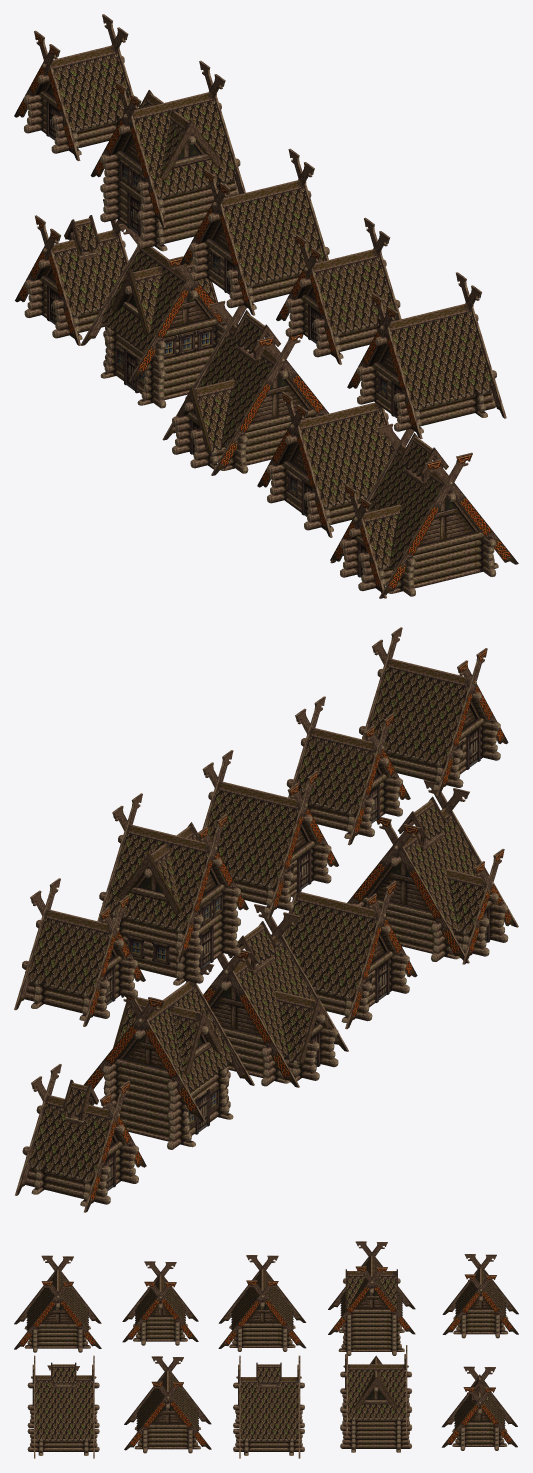
Rendered from MbdMD_T_Forest_S_GeneralShop.FBX.
3 views of the same model, one above another, from view 1: azimuth 30°, elevation 25°; view 2: azimuth 150°, elevation 25°; view 3: azimuth 270°, elevation 25° (orthographic). The views are drawn at different scales.
Parts seen in each view (by area): view 1: MbdMD_T_Forest_M_A_Build_02, MbdMD_T_Forest_M_A_Inn, MbdMD_T_Forest_S_Inn, MbdMD_T_Forest_S_HeadmanHouse, MbdMD_T_Forest_M_A_House_A, MbdMD_T_Forest_M_A_Build_01, MbdMD_T_Forest_S_House_A, MbdMD_T_Forest_S_GeneralShop, MbdMD_T_Forest_M_A_Build_03, MbdMD_T_Forest_M_A_GeneralShop; view 2: MbdMD_T_Forest_M_A_Inn, MbdMD_T_Forest_S_HeadmanHouse, MbdMD_T_Forest_M_A_Build_02, MbdMD_T_Forest_S_Inn, MbdMD_T_Forest_M_A_House_A, MbdMD_T_Forest_M_A_Build_01, MbdMD_T_Forest_S_House_A, MbdMD_T_Forest_M_A_GeneralShop, MbdMD_T_Forest_M_A_Build_03, MbdMD_T_Forest_S_GeneralShop; view 3: MbdMD_T_Forest_S_HeadmanHouse, MbdMD_T_Forest_M_A_Inn, MbdMD_T_Forest_M_A_Build_02, MbdMD_T_Forest_S_Inn, MbdMD_T_Forest_S_House_A, MbdMD_T_Forest_M_A_House_A, MbdMD_T_Forest_M_A_Build_01, MbdMD_T_Forest_M_A_GeneralShop, MbdMD_T_Forest_M_A_Build_03, MbdMD_T_Forest_S_GeneralShop.
Boxes of the visible parts, x1,y1,x2,y2 form: MbdMD_T_Forest_M_A_Build_02: (330,423,518,598); MbdMD_T_Forest_M_A_Inn: (90,60,245,251); MbdMD_T_Forest_S_Inn: (162,300,328,475); MbdMD_T_Forest_S_HeadmanHouse: (80,223,227,408); MbdMD_T_Forest_M_A_House_A: (347,272,506,438); MbdMD_T_Forest_M_A_Build_01: (180,148,329,315); MbdMD_T_Forest_S_House_A: (257,391,395,537); MbdMD_T_Forest_S_GeneralShop: (276,217,401,364); MbdMD_T_Forest_M_A_Build_03: (14,14,137,161); MbdMD_T_Forest_M_A_GeneralShop: (15,198,128,345); MbdMD_T_Forest_M_A_Inn: (97,793,248,985); MbdMD_T_Forest_S_HeadmanHouse: (83,963,254,1149); MbdMD_T_Forest_M_A_Build_02: (347,780,518,964); MbdMD_T_Forest_S_Inn: (203,904,348,1087); MbdMD_T_Forest_M_A_House_A: (359,627,508,795); MbdMD_T_Forest_M_A_Build_01: (202,750,338,918); MbdMD_T_Forest_S_House_A: (282,881,417,1029); MbdMD_T_Forest_M_A_GeneralShop: (15,1064,146,1212); MbdMD_T_Forest_M_A_Build_03: (14,878,145,1026); MbdMD_T_Forest_S_GeneralShop: (286,696,410,845); MbdMD_T_Forest_S_HeadmanHouse: (340,1345,411,1452); MbdMD_T_Forest_M_A_Inn: (328,1241,415,1355); MbdMD_T_Forest_M_A_Build_02: (27,1355,99,1458); MbdMD_T_Forest_S_Inn: (233,1355,304,1458); MbdMD_T_Forest_S_House_A: (124,1356,211,1453); MbdMD_T_Forest_M_A_House_A: (14,1255,101,1352); MbdMD_T_Forest_M_A_Build_01: (218,1255,306,1351); MbdMD_T_Forest_M_A_GeneralShop: (441,1366,517,1450); MbdMD_T_Forest_M_A_Build_03: (442,1254,518,1338); MbdMD_T_Forest_S_GeneralShop: (122,1261,198,1345).
Size of the model in its own units: 906 by 1798 by 4464.
